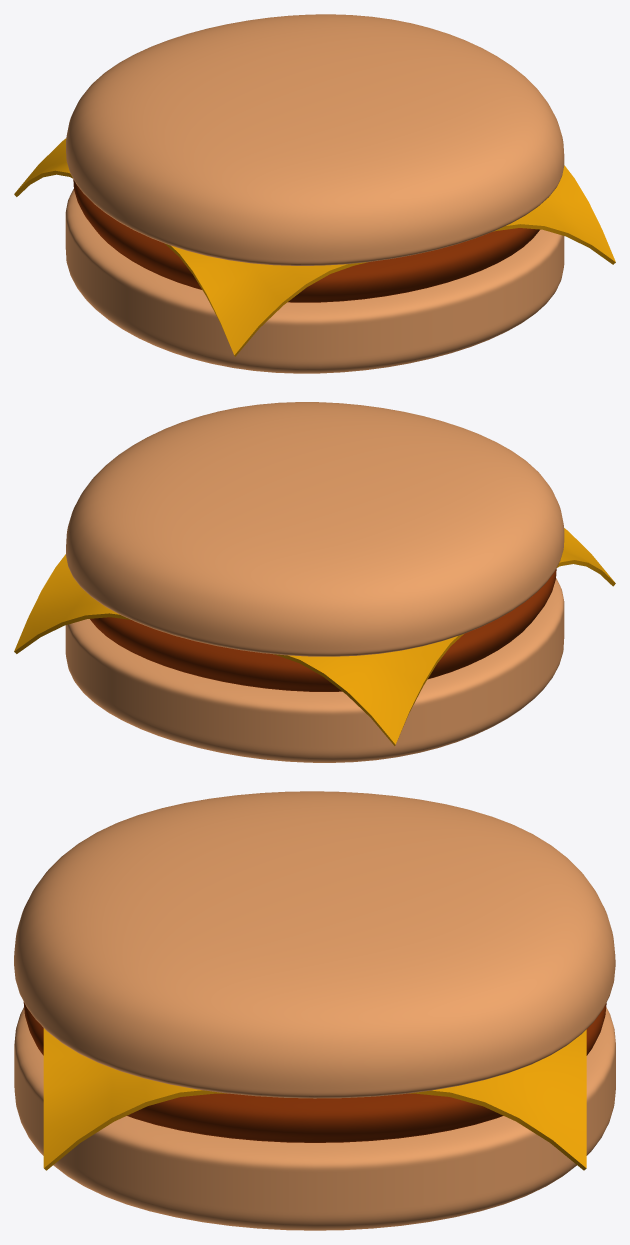
File: hamburger.glb
The picture shows the model from 3 angles, top to bottom: view 1: azimuth 30°, elevation 25°; view 2: azimuth 150°, elevation 25°; view 3: azimuth 270°, elevation 25°; orthographic projection. The views are drawn at different scales.
Parts seen in each view (by area): view 1: Cube, Cube.002, Plane, Cube.001; view 2: Cube, Cube.002, Plane, Cube.001; view 3: Cube, Cube.002, Plane, Cube.001.
Boxes of the visible parts, x1,y1,x2,y2 form: Cube: (66,14,564,265); Cube.002: (65,189,564,373); Plane: (14,138,615,356); Cube.001: (73,179,539,302); Cube: (66,402,564,656); Cube.002: (65,578,564,762); Plane: (14,528,615,745); Cube.001: (90,568,556,691); Cube: (14,791,615,1098); Cube.002: (14,1007,615,1230); Plane: (43,1028,586,1170); Cube.001: (23,1002,606,1142).
Size of the model in its own units: 9.13 by 4.27 by 9.14.
